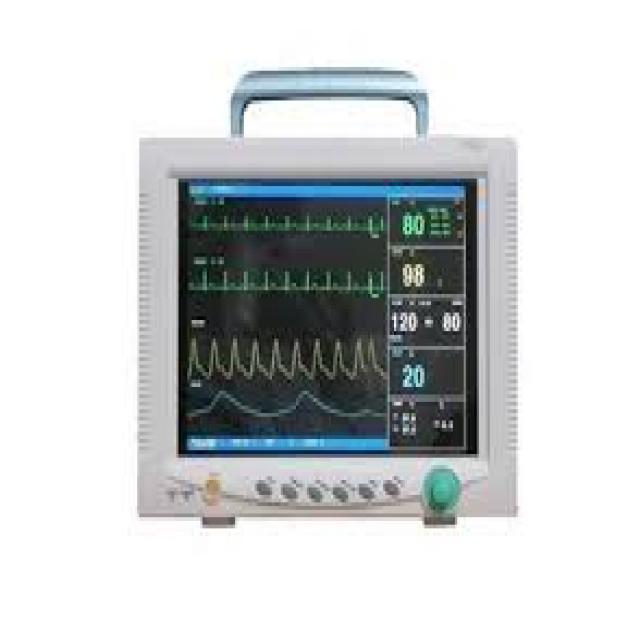cardiac_monitor: (146, 160, 508, 519)
